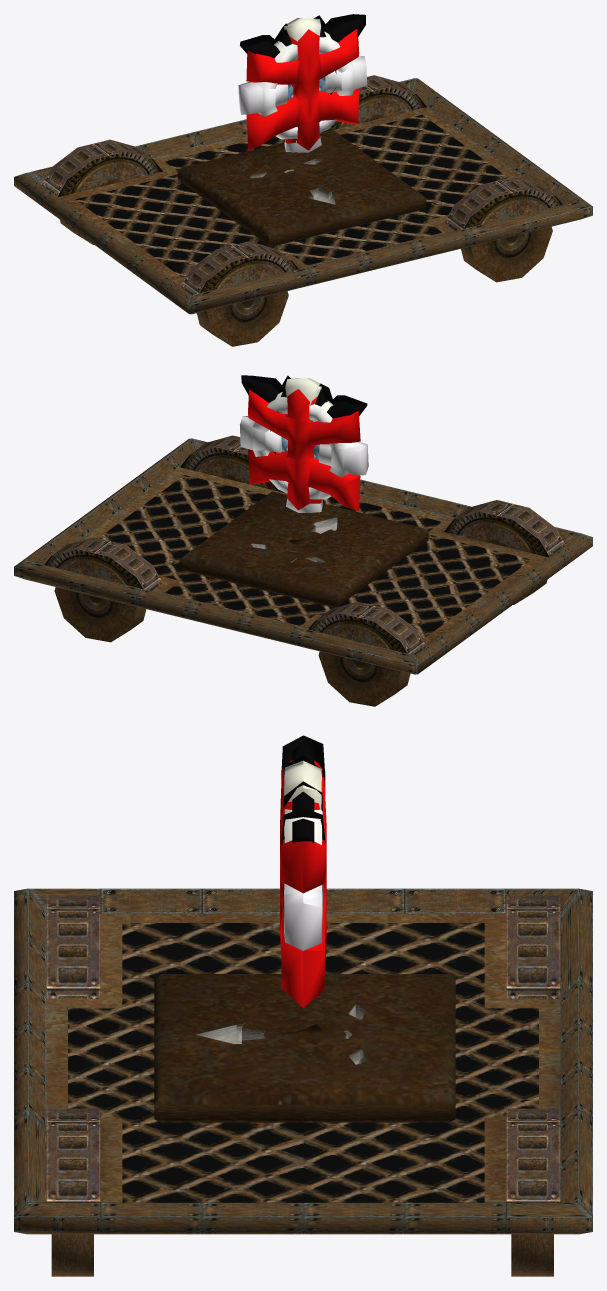
The model's file is FORGE_CART.obj.
3 views of the same model, one above another, from view 1: azimuth 30°, elevation 25°; view 2: azimuth 150°, elevation 25°; view 3: azimuth 270°, elevation 25° (orthographic). The views are drawn at different scales.
Parts seen in each view (by area): view 1: forge_cart, key2mold, keyHOT, arkmold01, arkkeyHOT, cart_wheel02, cart_wheel01, keymold, key2; view 2: forge_cart, key2mold, keyHOT, arkmold01, arkkeyHOT, cart_wheel02, cart_wheel01, keymold, key2; view 3: forge_cart, key2mold, arkmold01, keyHOT, keymold, arkkeyHOT, cart_wheel01, key2.
Boxes of the visible parts, <box> form: forge_cart: <box>14,75,592,314</box>; key2mold: <box>184,130,414,244</box>; keyHOT: <box>246,29,359,150</box>; arkmold01: <box>177,145,426,245</box>; arkkeyHOT: <box>238,18,367,152</box>; cart_wheel02: <box>60,220,288,346</box>; cart_wheel01: <box>461,226,552,282</box>; keymold: <box>177,130,426,246</box>; key2: <box>240,14,365,128</box>; forge_cart: <box>14,435,592,674</box>; key2mold: <box>186,497,409,596</box>; keyHOT: <box>248,389,360,511</box>; arkmold01: <box>179,491,428,607</box>; arkkeyHOT: <box>240,378,368,512</box>; cart_wheel02: <box>318,579,547,706</box>; cart_wheel01: <box>54,587,146,642</box>; keymold: <box>180,517,428,604</box>; key2: <box>241,375,367,489</box>; forge_cart: <box>14,888,592,1234</box>; key2mold: <box>154,974,455,1122</box>; arkmold01: <box>154,974,455,1122</box>; keyHOT: <box>280,760,326,1008</box>; keymold: <box>154,974,455,1122</box>; arkkeyHOT: <box>284,760,322,950</box>; cart_wheel01: <box>51,1234,553,1276</box>; key2: <box>281,735,325,907</box>.
Size of the model in its own units: 256 by 145 by 192.
